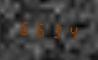four: (63, 21, 77, 42)
six: (18, 17, 32, 38), (33, 18, 47, 39)
three: (48, 20, 62, 41)
